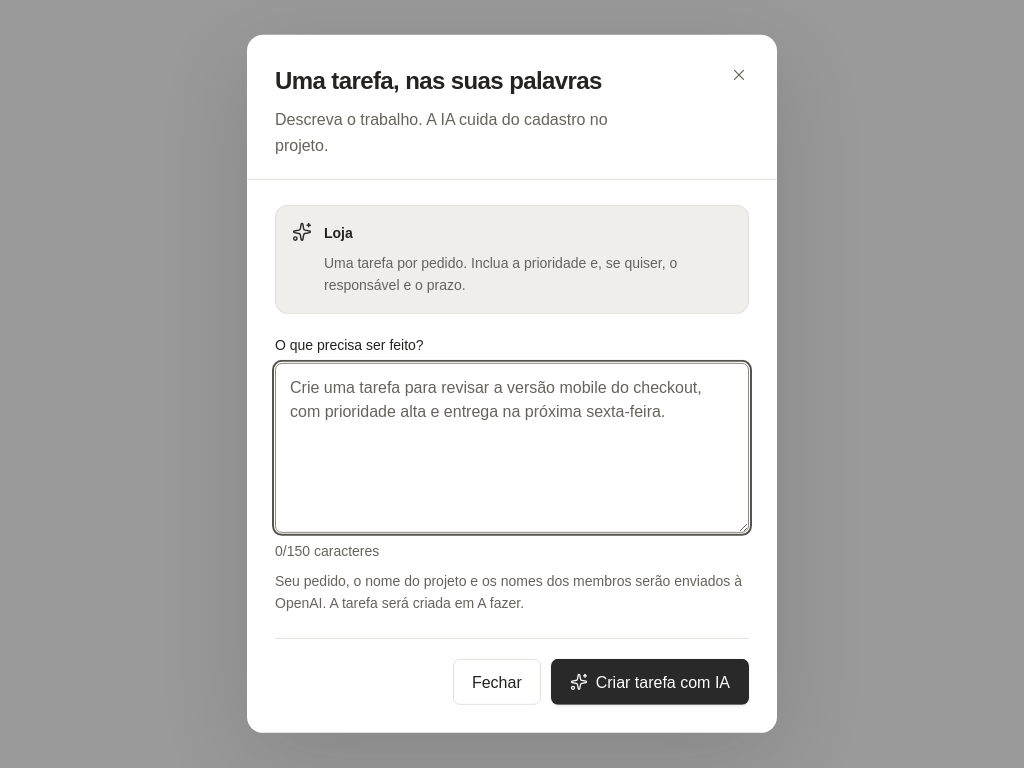
AI task composer › shows usage and wait, keeps the prompt, and never automatically resubmits
Type "Crie uma tarefa para revisar o checkout, prioridade alta." into the text box labelled "O que precisa ser feito?".
click(512, 448); type("Crie uma tarefa para revisar o checkout, prioridade alta.")  # box [275,363,749,533]
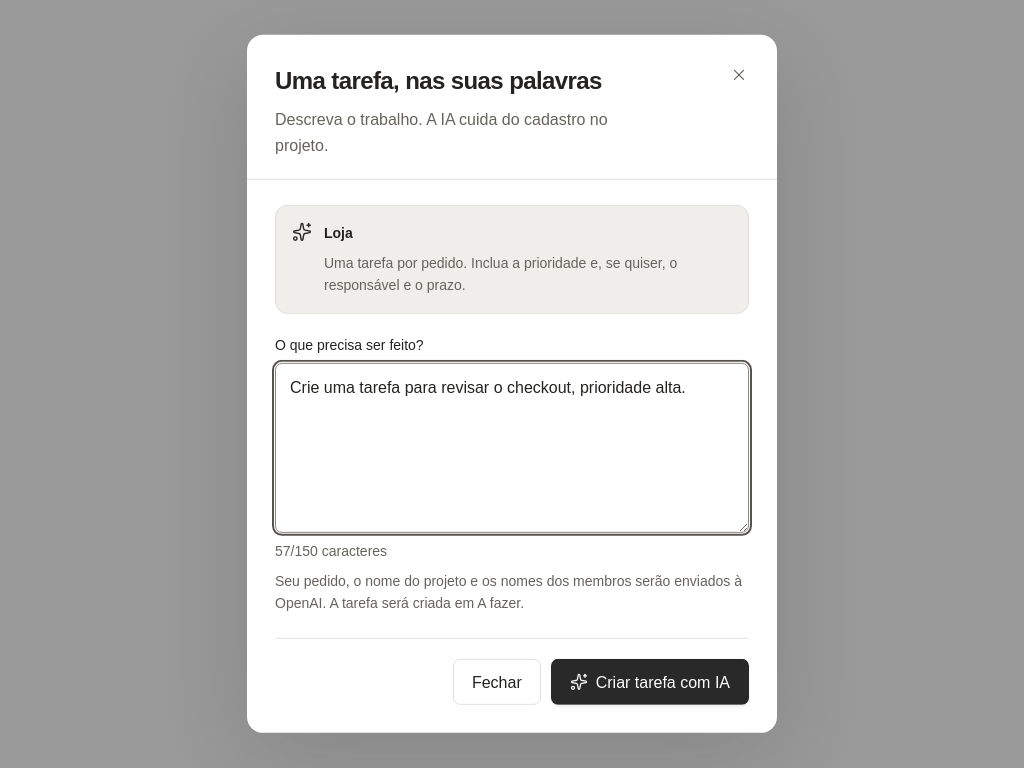
Click the button "Criar tarefa com IA".
click(650, 682)  # box [551,659,749,705]
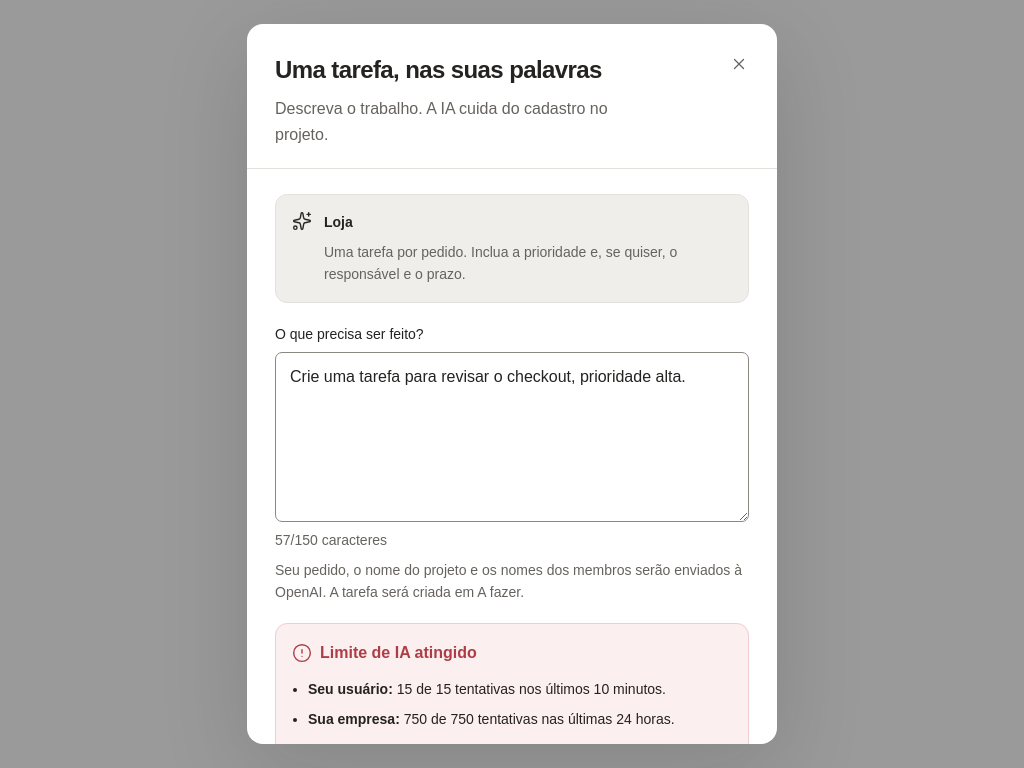
Expected: the message shows "Limite de IA atingido", [320,644,477,661]
